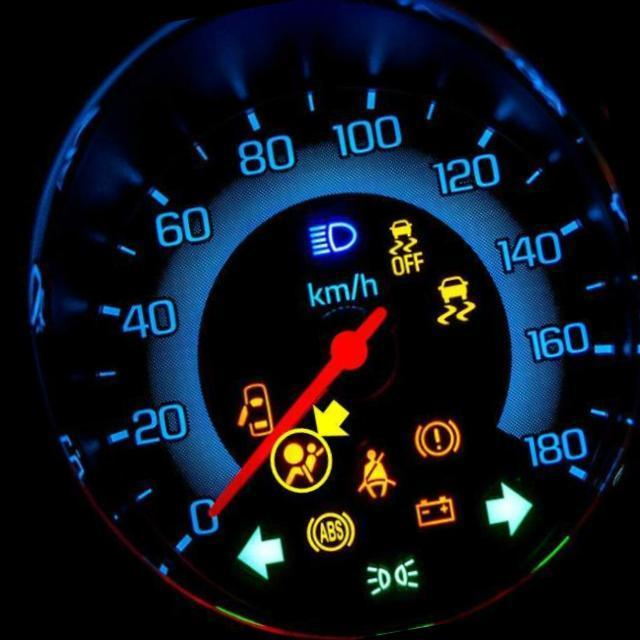Doors: (231, 381, 274, 438)
SideLamp: (362, 556, 420, 598)
